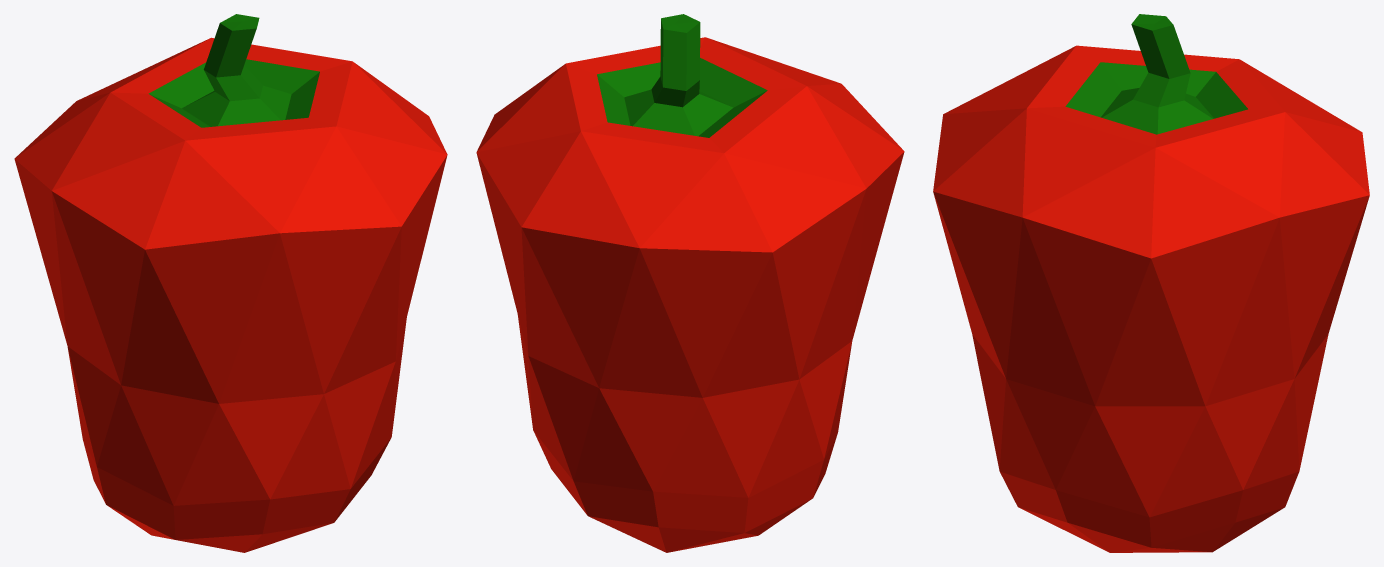
The model's file is bellpepper.fbx.
The picture shows the model from 3 angles, left to right: view 1: azimuth 30°, elevation 25°; view 2: azimuth 150°, elevation 25°; view 3: azimuth 270°, elevation 25°; orthographic projection. The views are drawn at different scales.
Parts seen in each view (by area): view 1: Icosphere; view 2: Icosphere; view 3: Icosphere.
Part boxes in pixels (box(x1,y1,x2,y2)): Icosphere: box(14, 14, 447, 552); Icosphere: box(476, 14, 904, 552); Icosphere: box(933, 14, 1369, 552).
Size of the model in its own units: 296 by 371 by 289.
